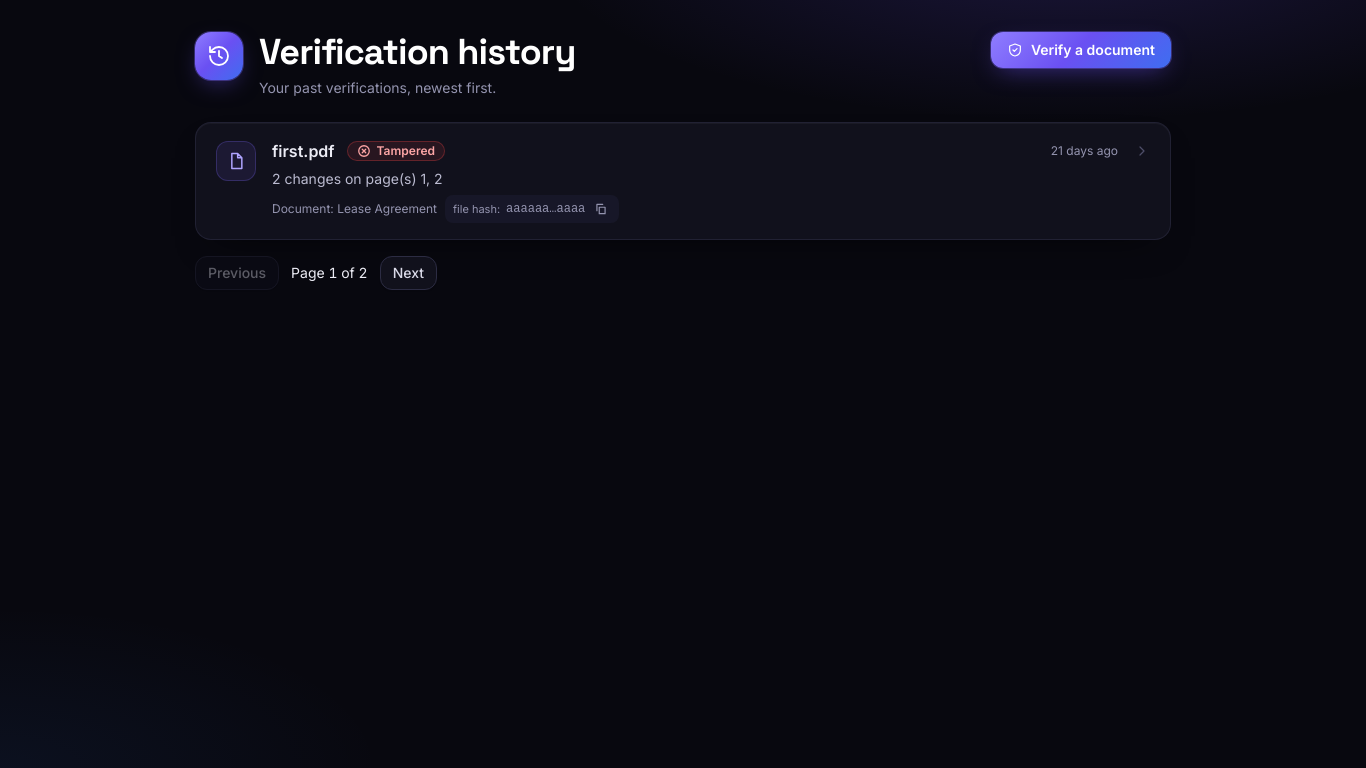
Test: VerificationHistory › paginates: Next requests page 2, Previous returns, and bounds disable the buttons
Expected: the link "first.pdf" is shown, [272, 139, 335, 163]
Expected: the text "Page 1 of 2" is shown, [291, 263, 368, 283]
Click the button "Next" at [408, 273], box [380, 256, 437, 290]
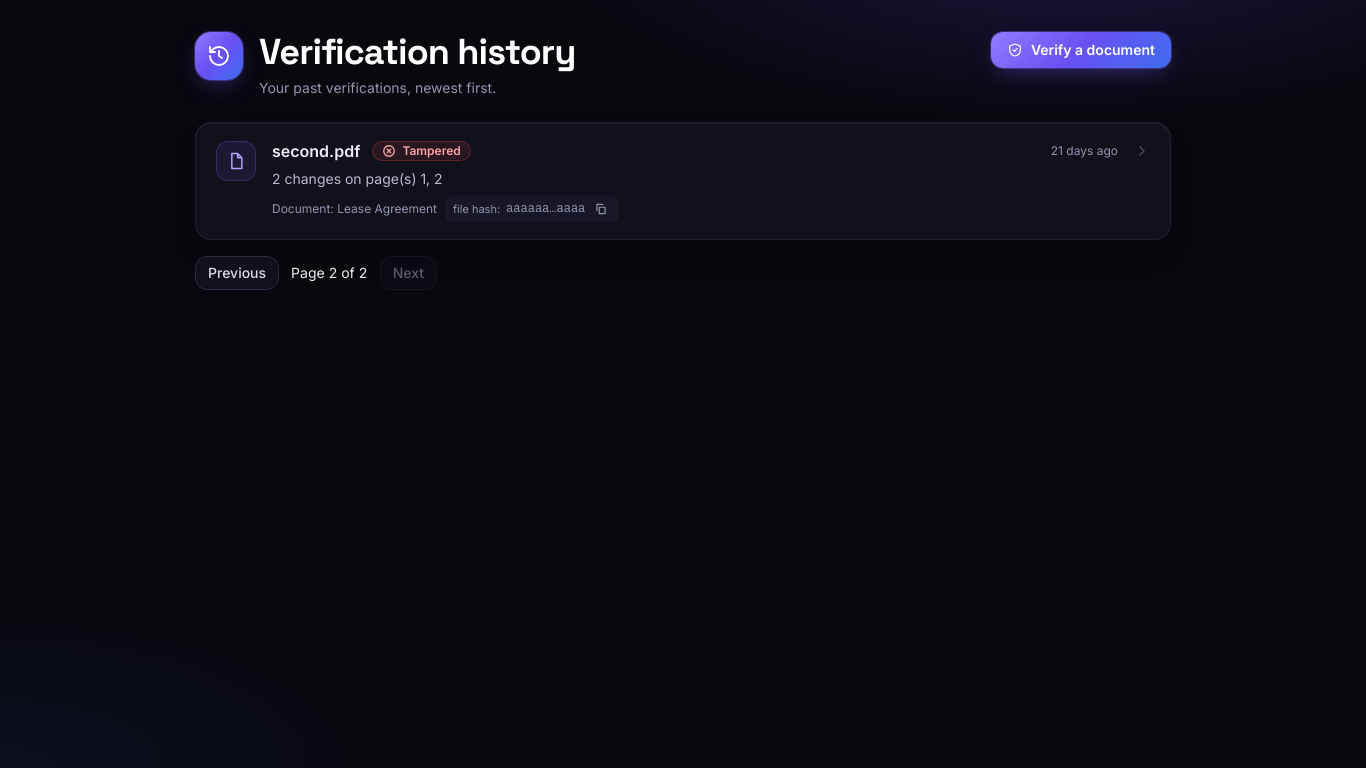
Expected: the link "second.pdf" is shown, [272, 139, 360, 163]
Expected: the button "Next" is disabled, [380, 256, 437, 290]
Click the button "Previous" at [237, 273], box [195, 256, 279, 290]
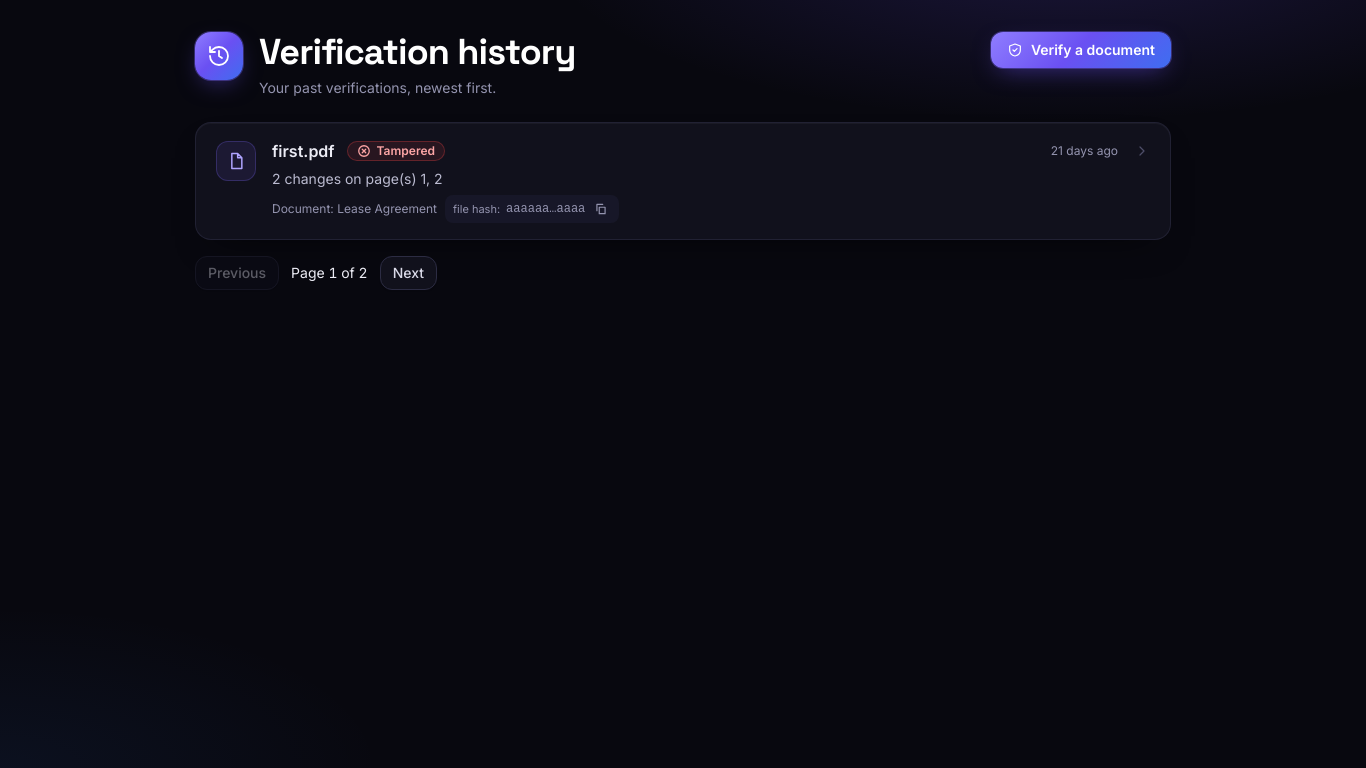
Expected: the link "first.pdf" is shown, [272, 139, 335, 163]
